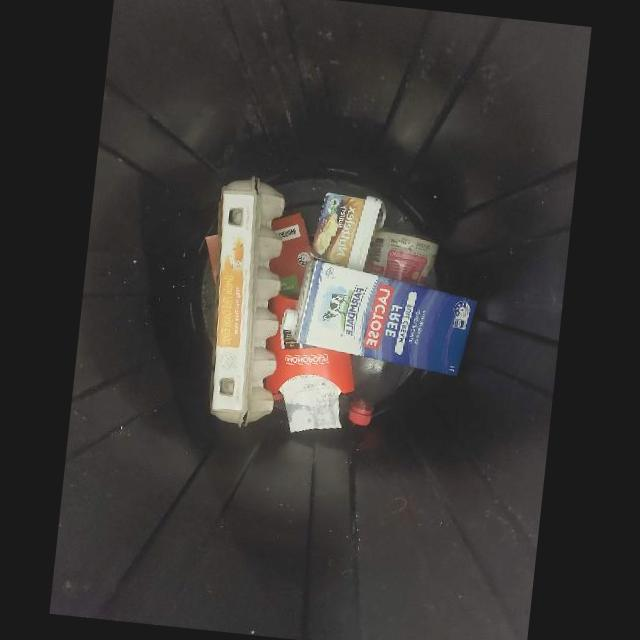chai_nhua_pet: (340, 227, 437, 426)
vo_hop_sua: (281, 260, 476, 375)
